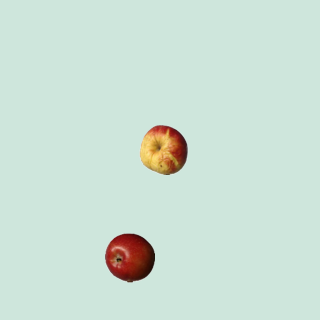Apple Braeburn: (104, 232, 154, 282)
Apple Red Yellow 1: (138, 124, 188, 174)
